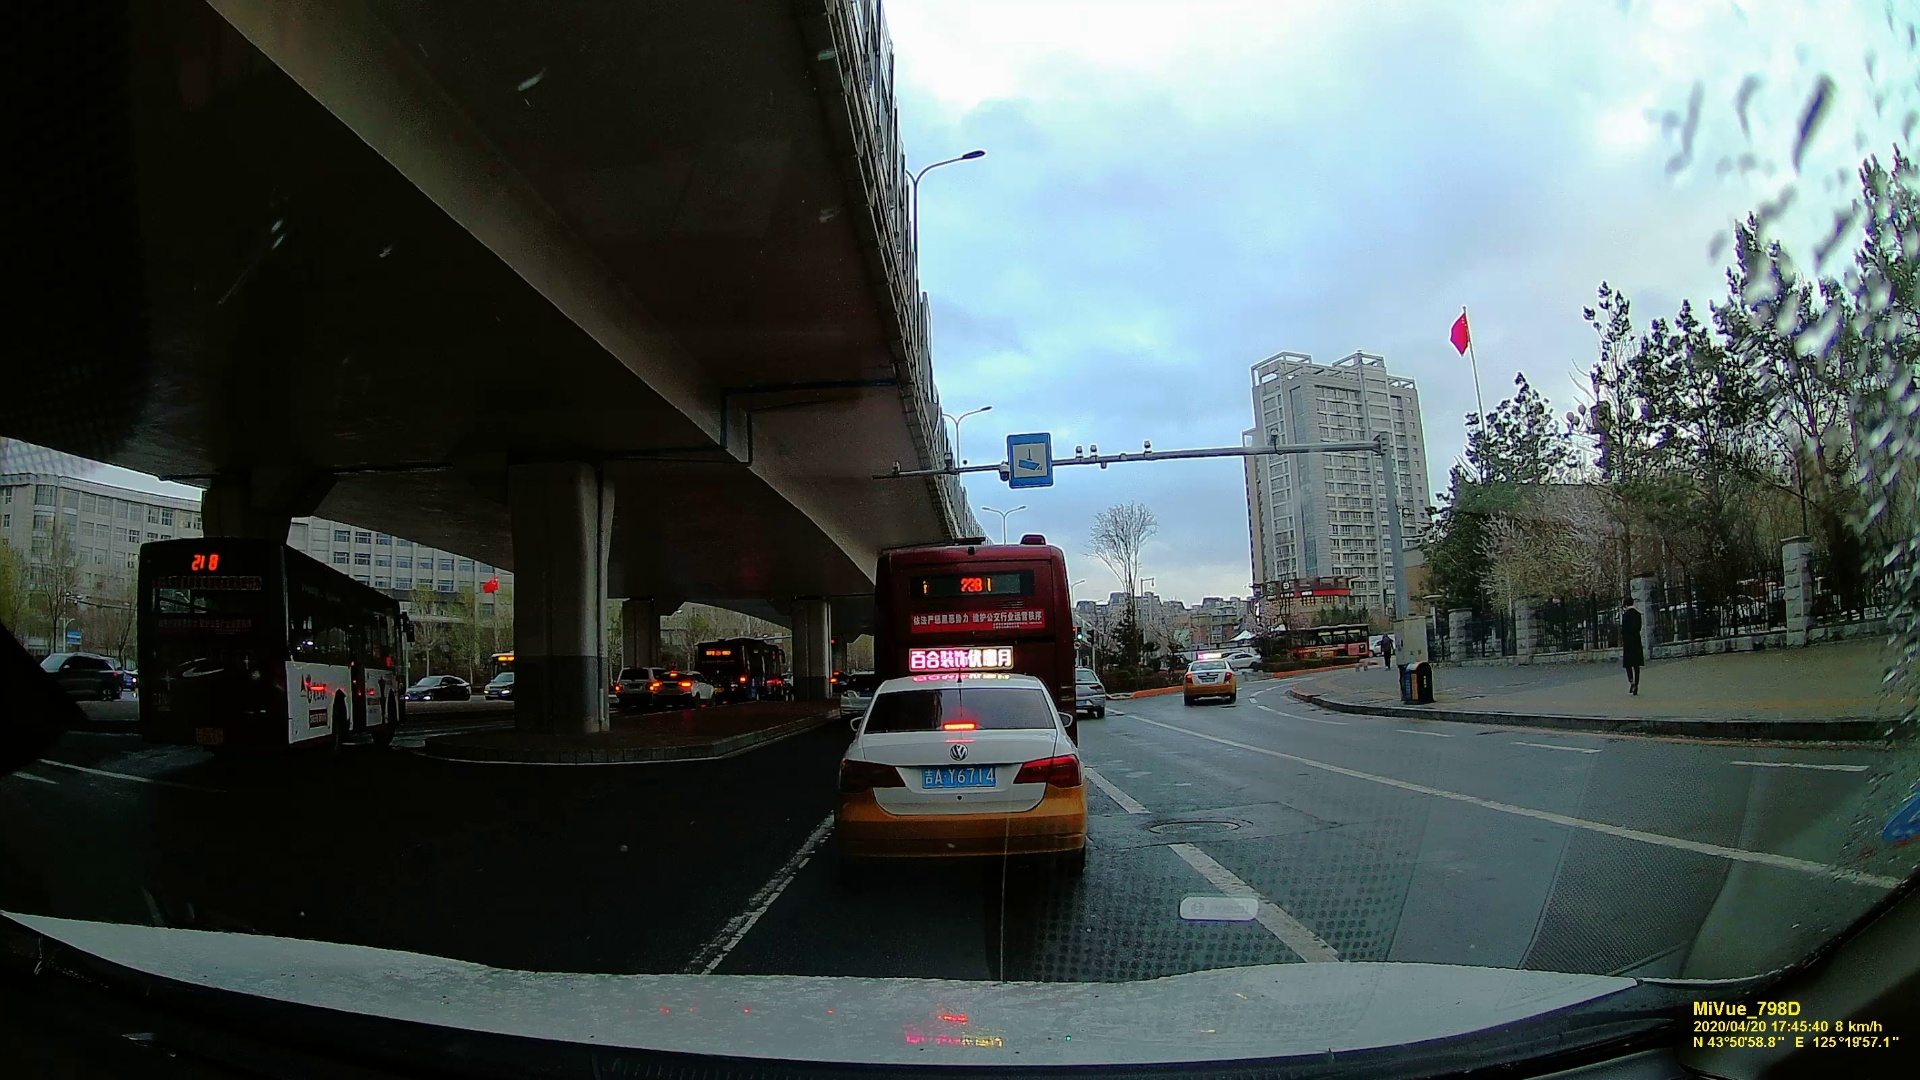bus: (133, 540, 409, 748), (701, 636, 793, 706), (1259, 627, 1367, 667)
person: (1616, 598, 1644, 693), (1378, 633, 1391, 663)
traffic_sign: (1006, 431, 1056, 487)
vehicle: (837, 667, 1094, 869), (880, 539, 1091, 730), (31, 644, 145, 734), (1183, 658, 1240, 706), (644, 666, 709, 703), (400, 674, 473, 706), (1073, 671, 1109, 719)
